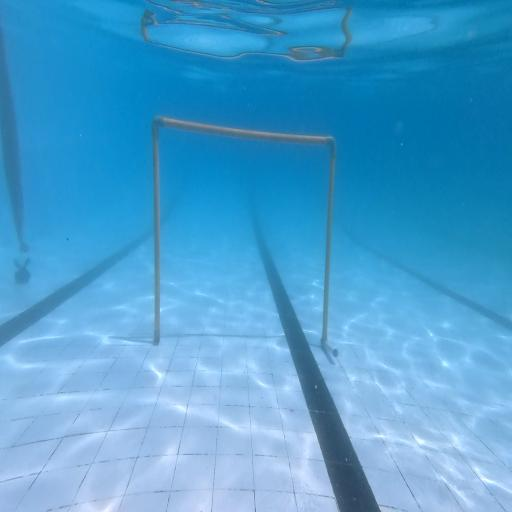gate: (152, 116, 338, 360)
